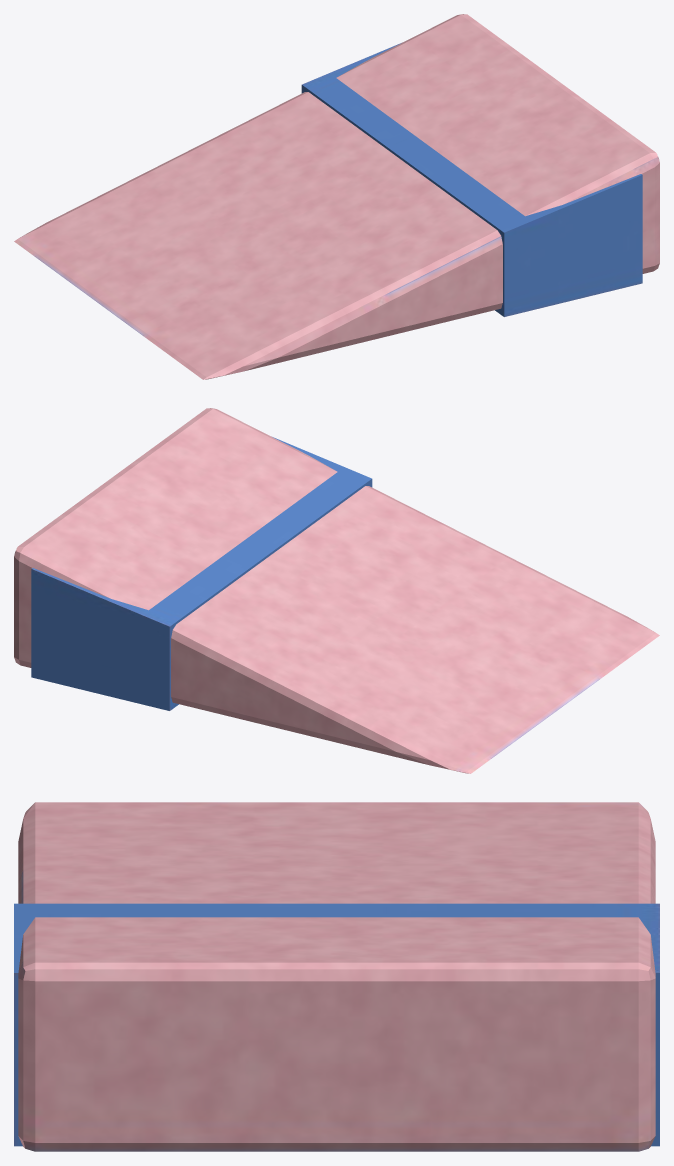
File: eraser.glb
The picture shows the model from 3 angles, top to bottom: view 1: azimuth 30°, elevation 25°; view 2: azimuth 150°, elevation 25°; view 3: azimuth 270°, elevation 25°; orthographic projection. The views are drawn at different scales.
Parts seen in each view (by area): view 1: eraser; view 2: eraser; view 3: eraser.
Part boxes in pixels (left/top/right/bottom): eraser: left=14, top=14, right=659, bottom=379; eraser: left=14, top=408, right=659, bottom=773; eraser: left=14, top=802, right=659, bottom=1151.
Bounding box in the file's own units: 3.95 × 1.01 × 3.04.
Materials: 1 (1 with a texture image).
